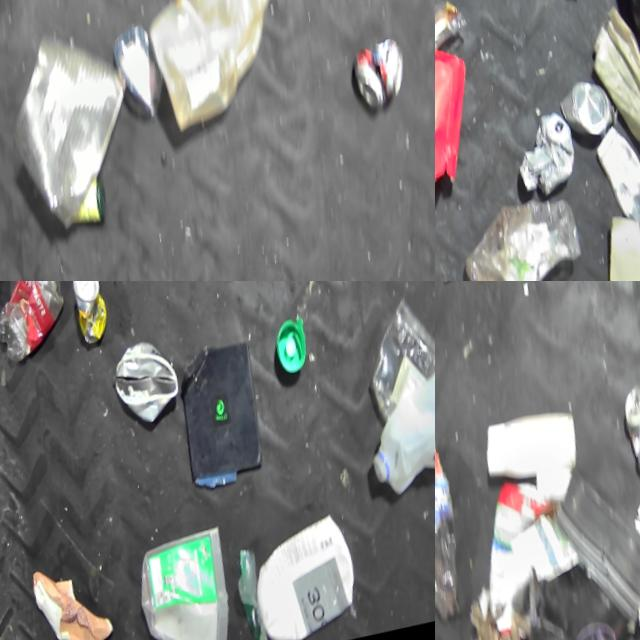can: (0, 15, 165, 245), (113, 333, 200, 439), (351, 31, 423, 125), (554, 70, 628, 157), (60, 281, 124, 356), (615, 371, 640, 495), (518, 0, 593, 12)
milk_jug: (136, 0, 299, 141), (359, 348, 435, 511)
plastic_bottle: (435, 421, 483, 625), (0, 281, 84, 374)
